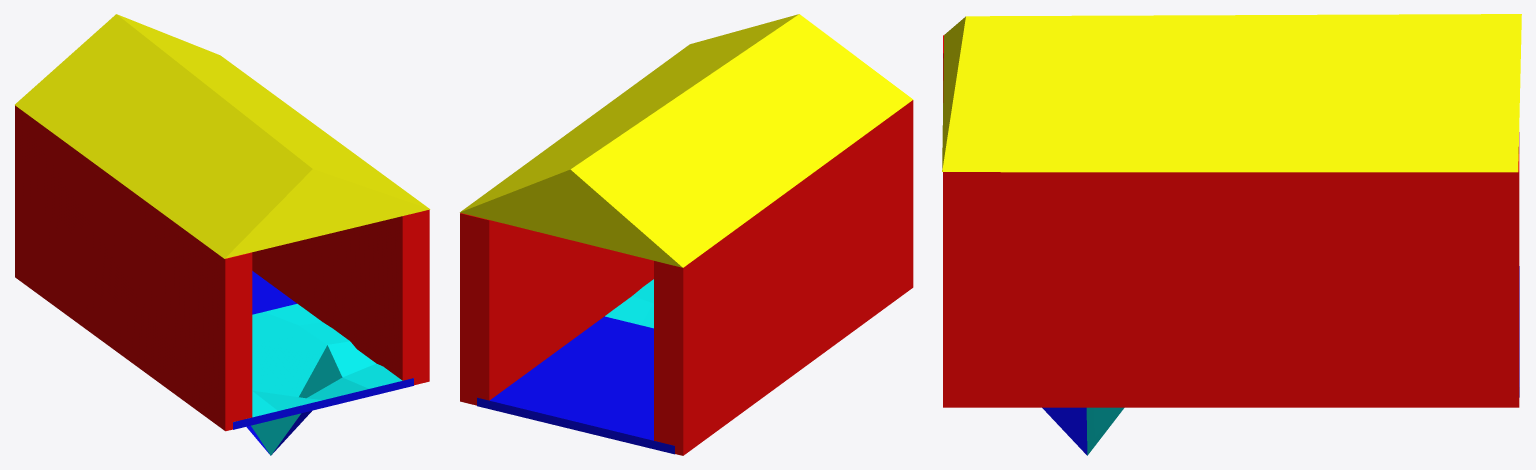
Rendered from factory_hole.fbx.
3 views of the same model, side by side, from view 1: azimuth 30°, elevation 25°; view 2: azimuth 150°, elevation 25°; view 3: azimuth 270°, elevation 25° (orthographic). The views are drawn at different scales.
Visible parts, largest first — view 1: Cube.001; view 2: Cube.001; view 3: Cube.001.
Boxes of the visible parts, left/top/right/bottom form: Cube.001: left=15, top=14, right=430, bottom=455; Cube.001: left=460, top=14, right=913, bottom=455; Cube.001: left=942, top=14, right=1521, bottom=455.
Size of the model in its own units: 604 by 911 by 1076.
